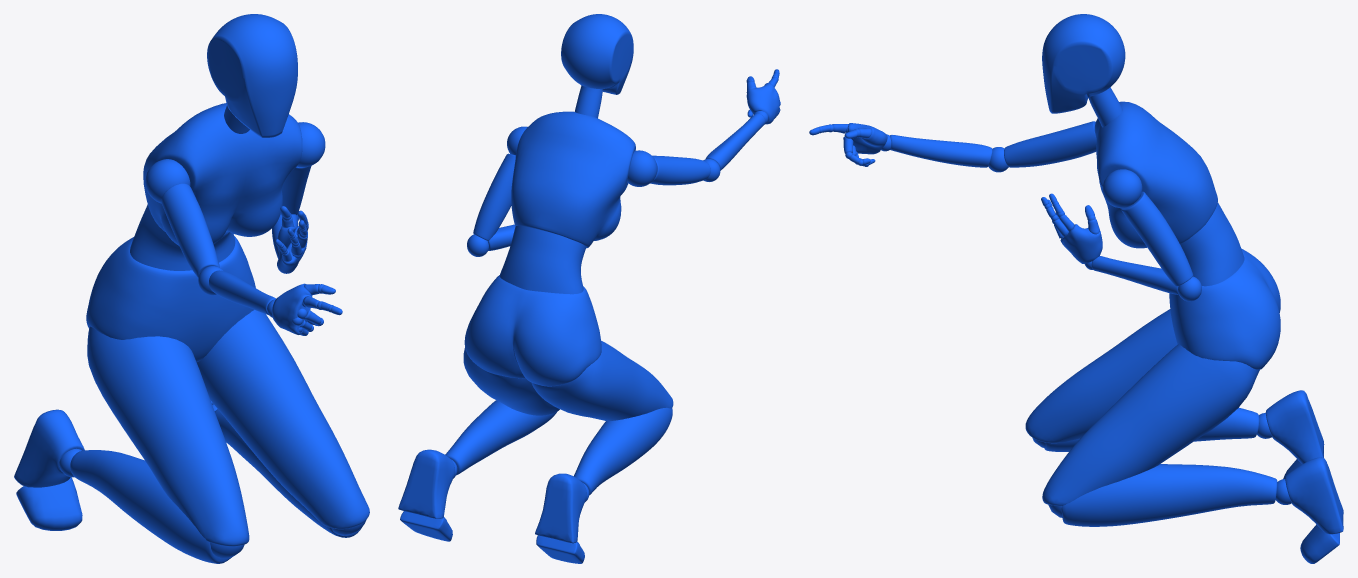
Rendered from Diosa_Seniala.fbx.
3 views of the same model, side by side, from view 1: azimuth 30°, elevation 25°; view 2: azimuth 150°, elevation 25°; view 3: azimuth 270°, elevation 25° (orthographic). The views are drawn at different scales.
Parts seen in each view (by area): view 1: Adjustable Mannequin Mesh; view 2: Adjustable Mannequin Mesh; view 3: Adjustable Mannequin Mesh.
Part boxes in pixels (x1,y1,x2,y2): Adjustable Mannequin Mesh: (14,14,369,563); Adjustable Mannequin Mesh: (398,14,780,563); Adjustable Mannequin Mesh: (809,14,1343,563).
Bounding box in the file's own units: 37.06 × 96.95 × 92.17.
